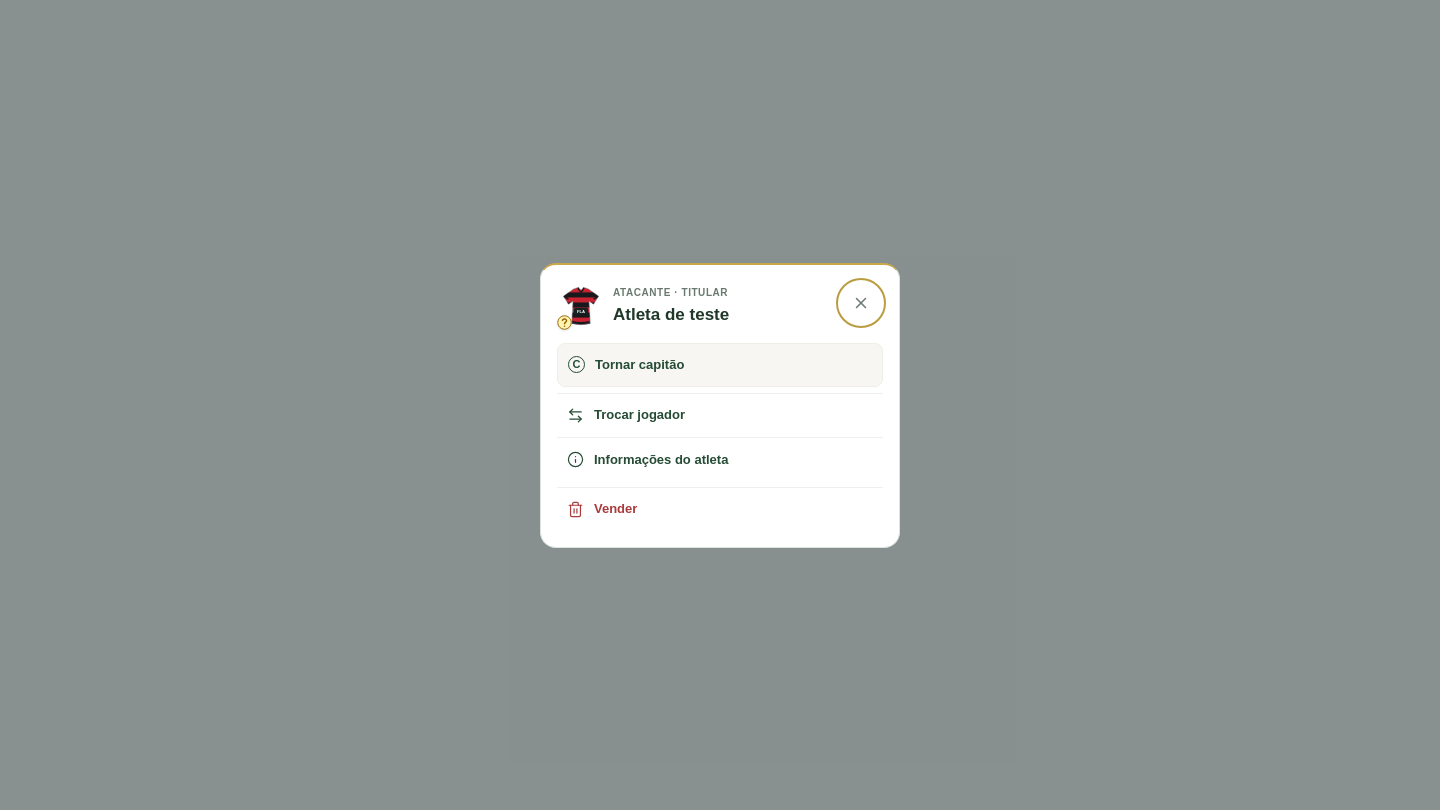
Scenario: Compact reusable athlete actions › keeps athlete information in the native expandable section before removal
This screenshot has width=1440, height=810.
Click the heading "Informações do atleta".
click(720, 460)  # box [557,438,883,482]
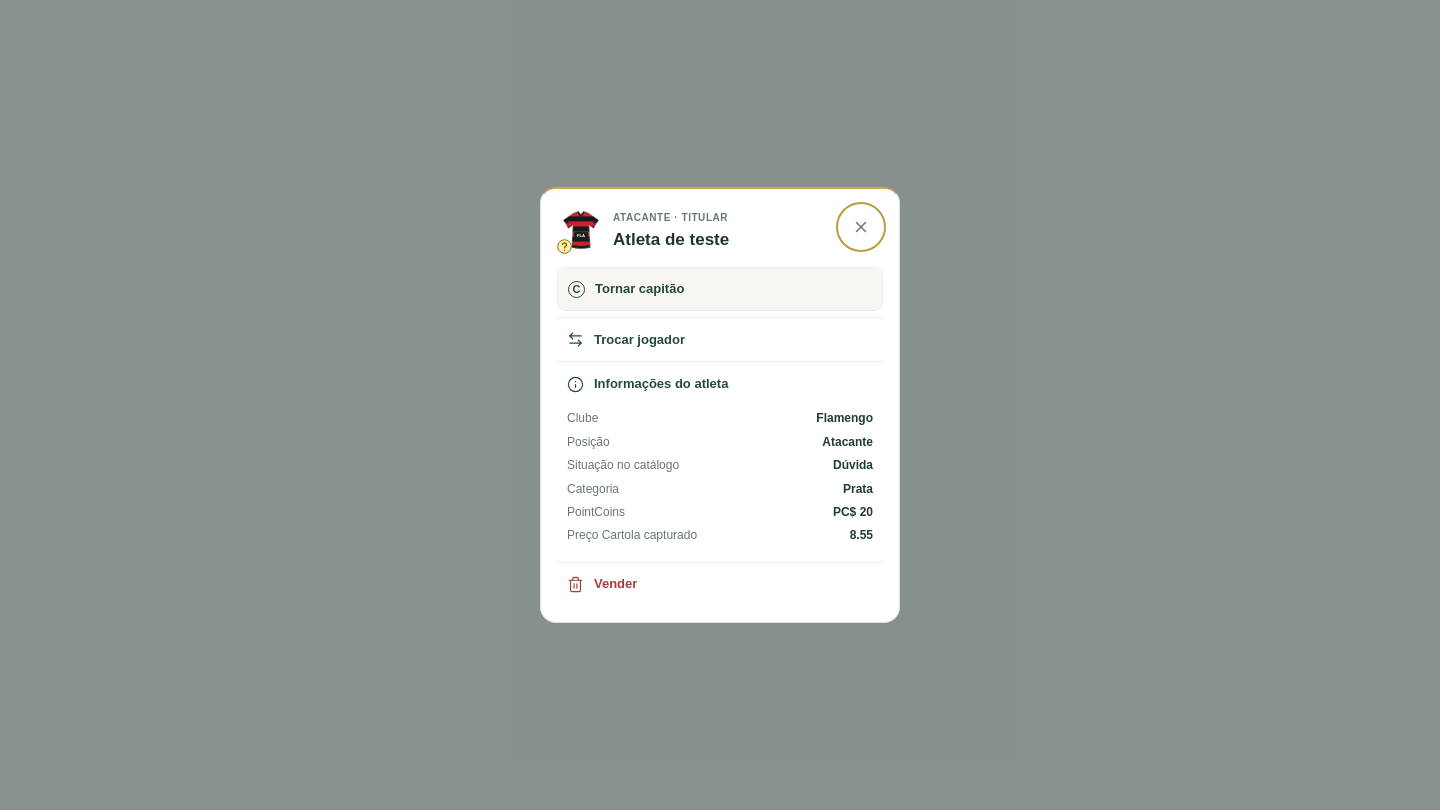
Result: the text "Flamengo" is shown at [816,411,873,425]
Result: the text "Dúvida" is shown at [833,458,873,472]
Result: the text "PC$ 20" is shown at [833,505,873,519]
